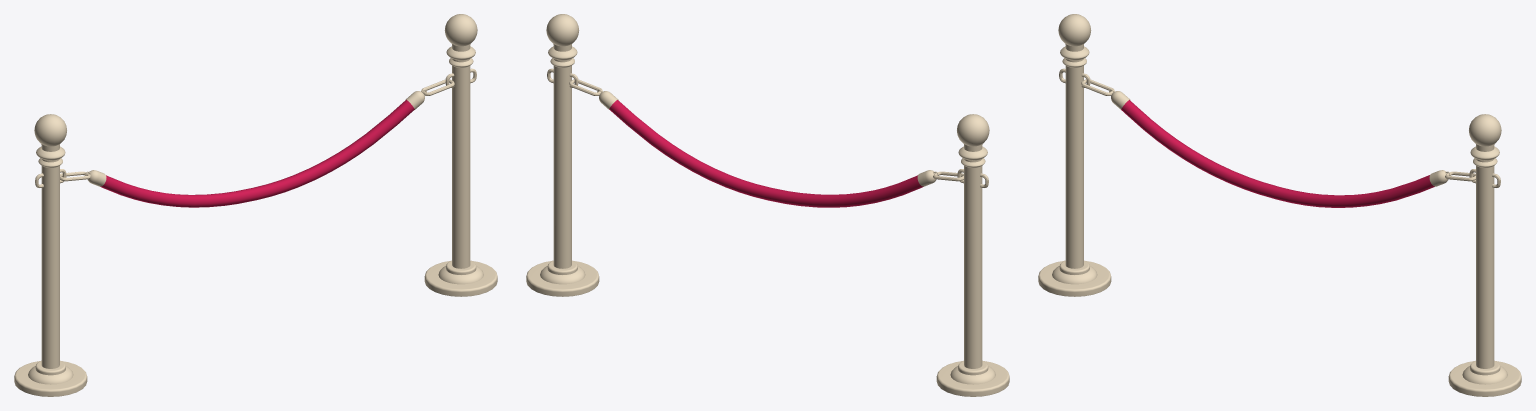
File: velvet_rope.baked.fbx
3 renders of one model, left to right at view 1: azimuth 30°, elevation 25°; view 2: azimuth 150°, elevation 25°; view 3: azimuth 330°, elevation 25°, orthographic.
Parts seen in each view (by area): view 1: Vip_rope:Mesh; view 2: Vip_rope:Mesh; view 3: Vip_rope:Mesh.
Part boxes in pixels (box(x1,y1,x2,y2)): Vip_rope:Mesh: box(14, 14, 497, 396); Vip_rope:Mesh: box(526, 14, 1009, 396); Vip_rope:Mesh: box(1038, 14, 1521, 396).
Bounding box in the file's own units: 1166 × 626 × 156.
